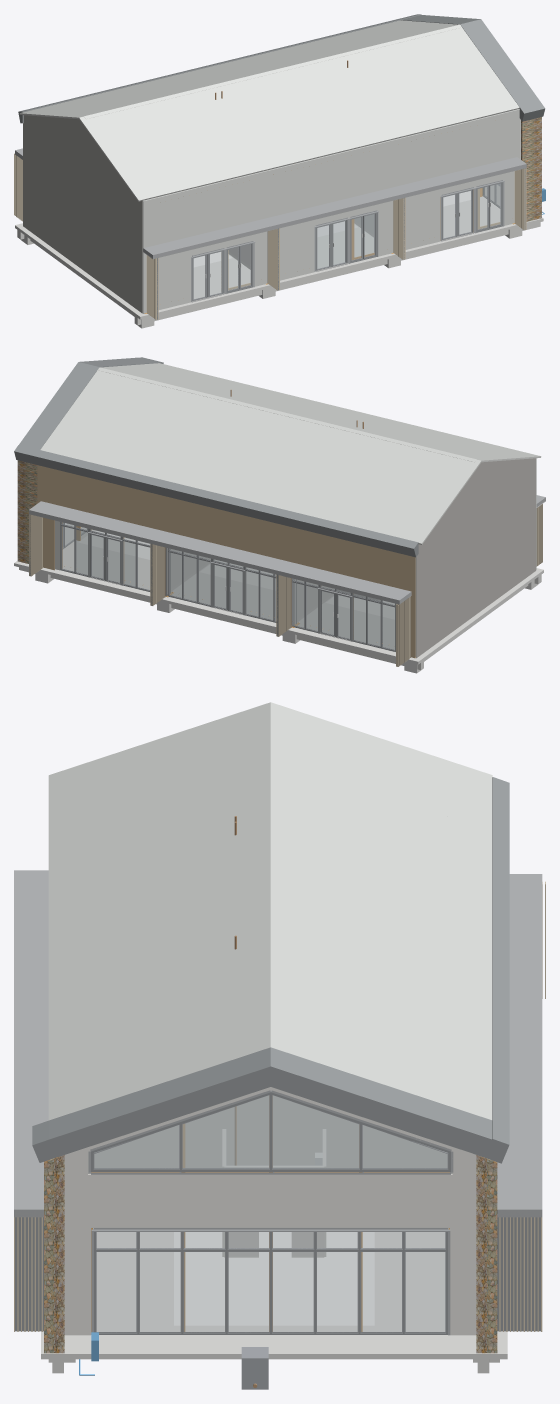
The model's file is NAVE_COMERCIAL.glb.
3 renders of one model, top to bottom at view 1: azimuth 30°, elevation 25°; view 2: azimuth 150°, elevation 25°; view 3: azimuth 270°, elevation 25°, orthographic. The views are drawn at different scales.
Visible parts, largest first — view 1: Geom3D (×80), Geom3D_CENEFA#10_CENEFA; view 2: Geom3D (×65), Geom3D_CENEFA#10_CENEFA; view 3: Geom3D (×61), Geom3D_CENEFA#10_CENEFA.
Boxes of the visible parts, x1,y1,x2,y2 form: Geom3D (×80): (14, 14, 545, 328); Geom3D_CENEFA#10_CENEFA: (401, 15, 480, 24); Geom3D (×65): (14, 357, 543, 673); Geom3D_CENEFA#10_CENEFA: (19, 362, 99, 449); Geom3D (×61): (14, 702, 545, 1389); Geom3D_CENEFA#10_CENEFA: (270, 1047, 492, 1139).
Size of the model in its own units: 23.36 by 8.98 by 13.8.
Materials: 35 (1 with a texture image).
